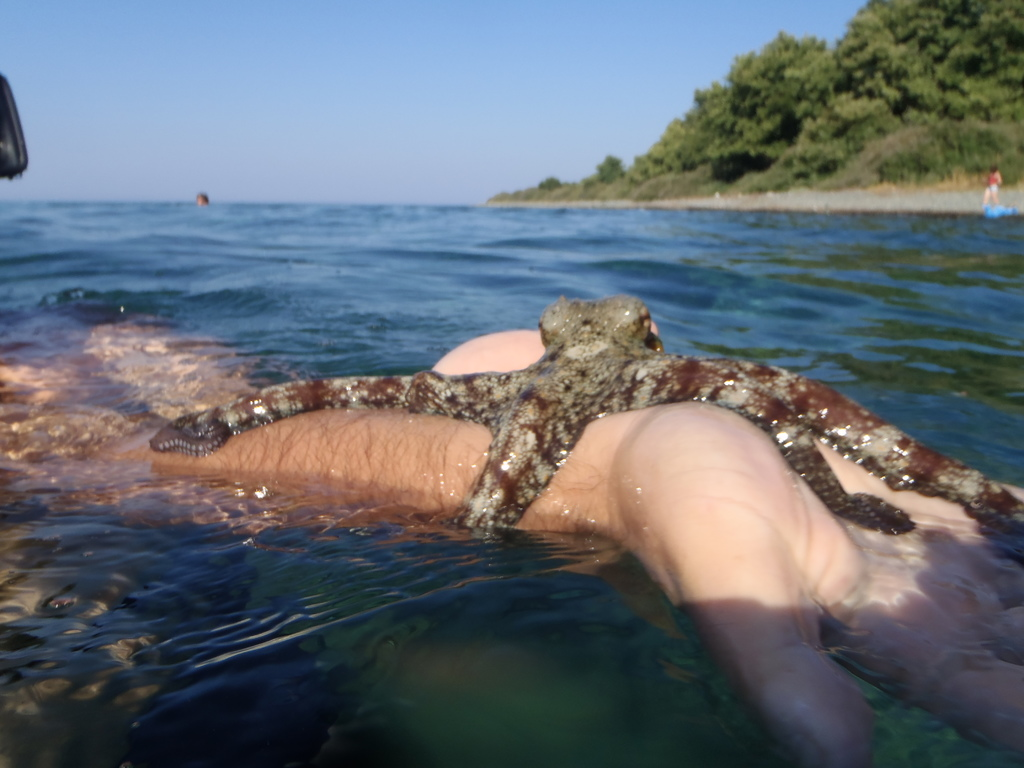Animal: (148, 293, 1022, 547)
